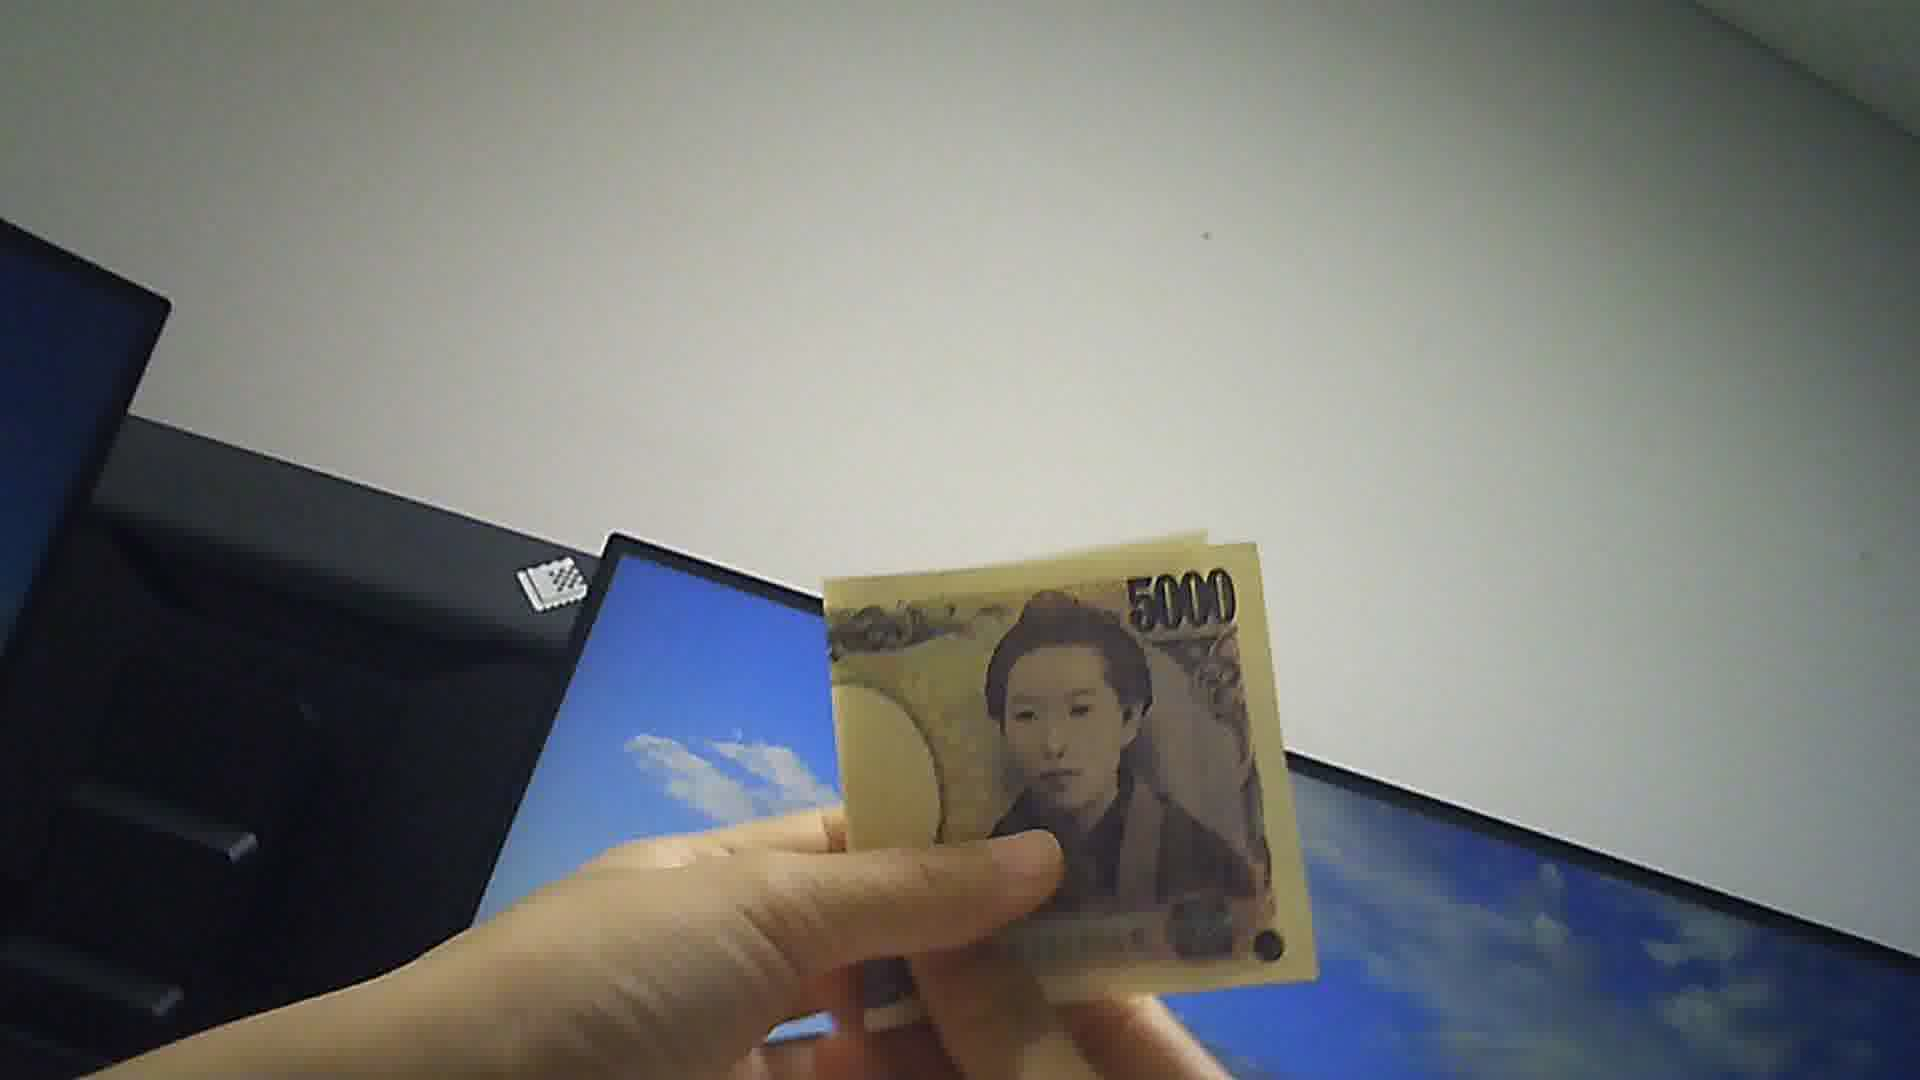5,000 Yen: (815, 524, 1331, 1038)
